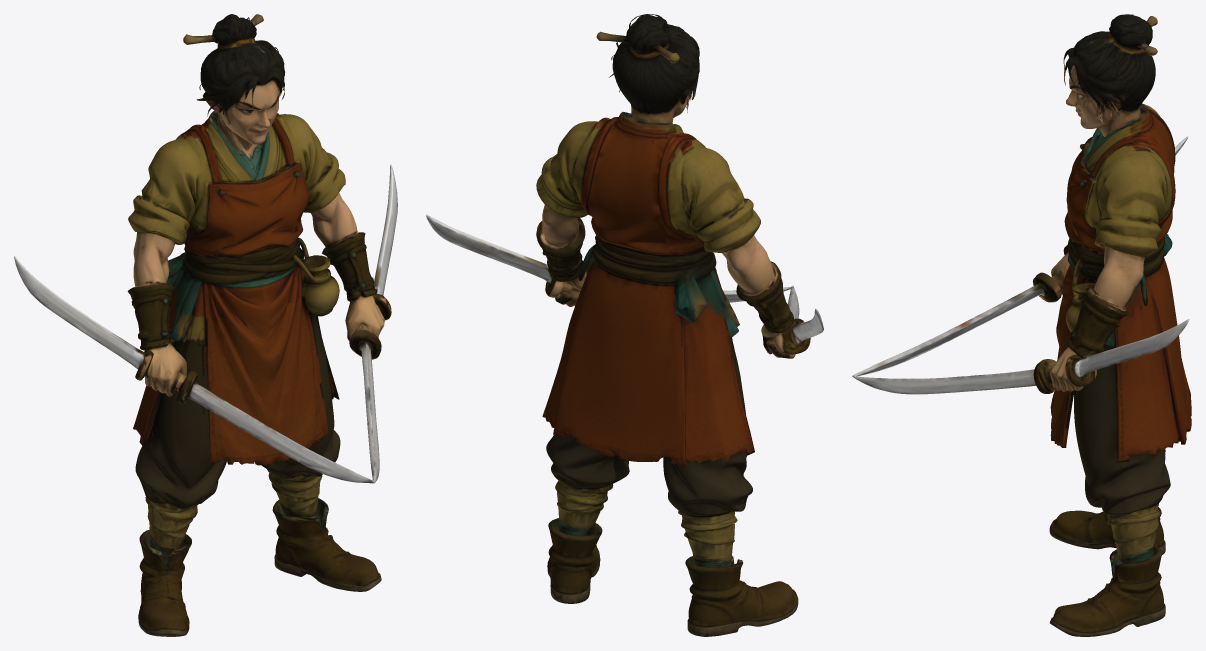
Rendered from sun_erniang_ai.glb.
The picture shows the model from 3 angles, left to right: view 1: azimuth 30°, elevation 25°; view 2: azimuth 150°, elevation 25°; view 3: azimuth 270°, elevation 25°; orthographic projection. The views are drawn at different scales.
Visible parts, largest first — view 1: node_0; view 2: node_0; view 3: node_0.
Boxes of the visible parts, x1=… form: node_0: x1=14, y1=14, x2=397, y2=636; node_0: x1=426, y1=14, x2=823, y2=636; node_0: x1=852, y1=14, x2=1191, y2=636.
Bounding box in the file's own units: 0.7363 × 1.06 × 0.5775.
Materials: 1 (1 with a texture image).
